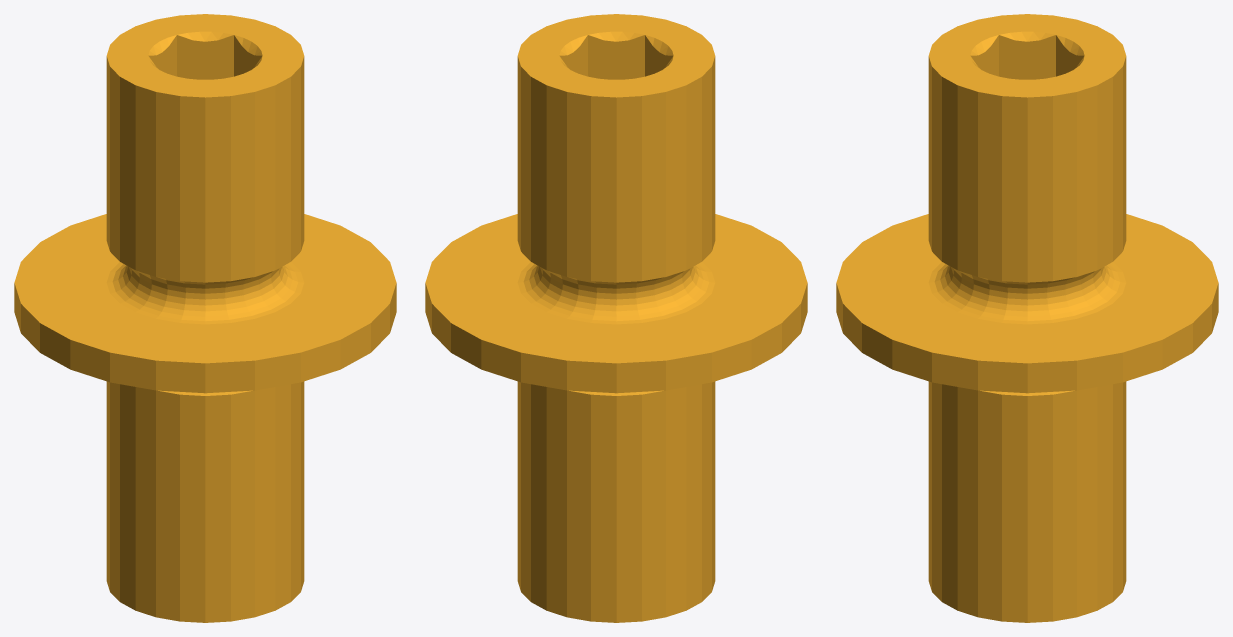
File: kria_kv_260_JSOM_T_XX_XX_XX_1_SOLID1_2_JSOM_T_XX_XX_XX_1_SOLID1_2.obj
3 renders of one model, left to right at view 1: azimuth 30°, elevation 25°; view 2: azimuth 150°, elevation 25°; view 3: azimuth 270°, elevation 25°, orthographic.
Bounding box in the file's own units: 0.0058 × 0.0088 × 0.0058.
